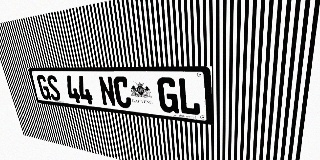4: (76, 76, 94, 105), (64, 75, 81, 103)
C: (112, 76, 132, 109)
G: (157, 77, 179, 114), (36, 75, 52, 100)
L: (177, 77, 201, 116)
N: (98, 76, 117, 107)
S: (46, 75, 62, 101)
